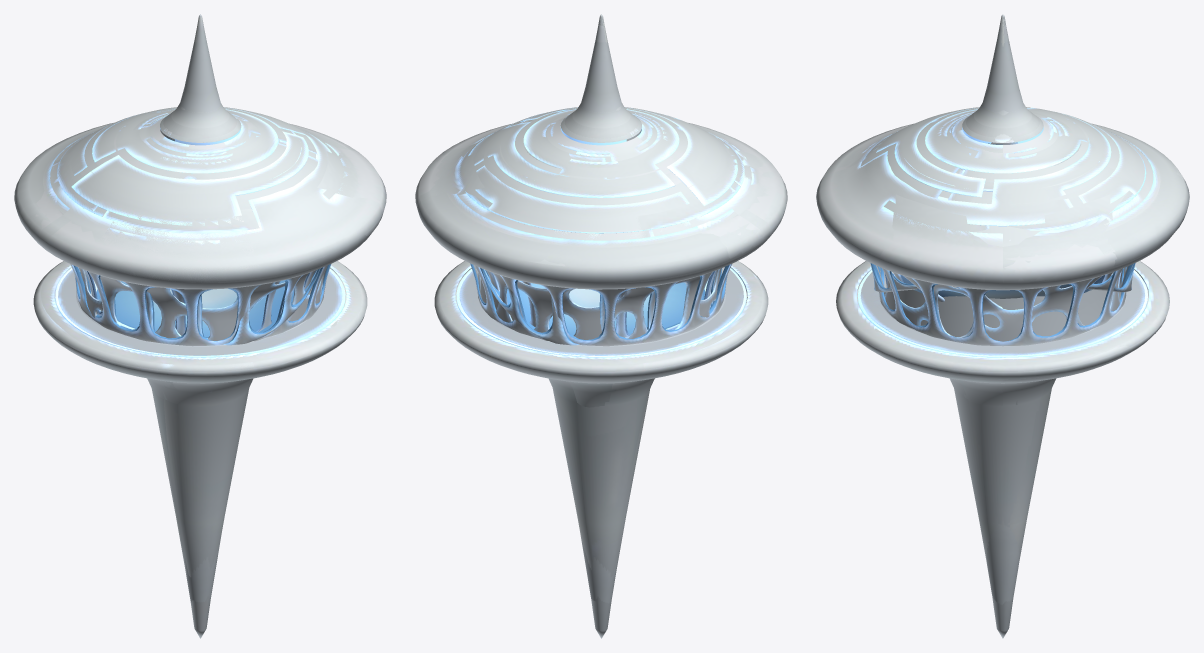
Rendered from turnipVariety.fbx.
The picture shows the model from 3 angles, left to right: view 1: azimuth 30°, elevation 25°; view 2: azimuth 150°, elevation 25°; view 3: azimuth 270°, elevation 25°; orthographic projection.
Parts seen in each view (by area): view 1: turnip2, turnip3, turnip4, turnip1; view 2: turnip2, turnip1, turnip4, turnip3; view 3: turnip2, turnip3, turnip4, turnip1.
Boxes of the visible parts, x1,y1,x2,y2 form: turnip2: (33, 16, 382, 602); turnip3: (19, 14, 386, 638); turnip4: (19, 14, 357, 577); turnip1: (14, 18, 364, 473); turnip2: (434, 17, 787, 603); turnip1: (417, 14, 766, 473); turnip4: (419, 14, 771, 577); turnip3: (415, 15, 786, 638); turnip2: (816, 17, 1153, 604); turnip3: (817, 14, 1183, 638); turnip4: (848, 16, 1144, 564); turnip1: (841, 14, 1189, 527).
Size of the model in its own units: 1.46 by 2.7 by 1.46.
